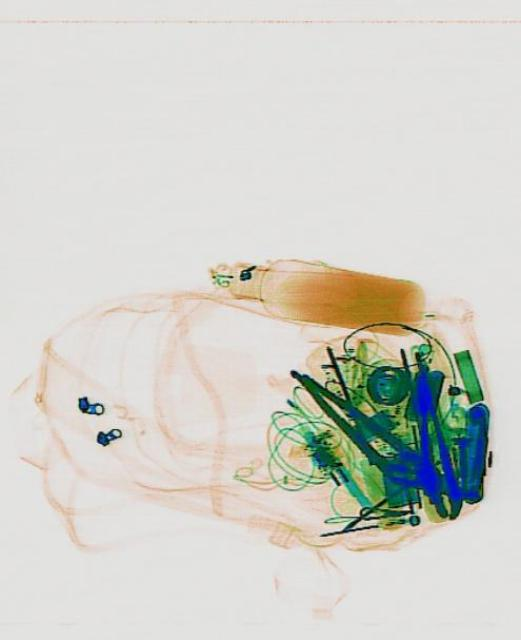Pliers: (277, 349, 448, 511)
